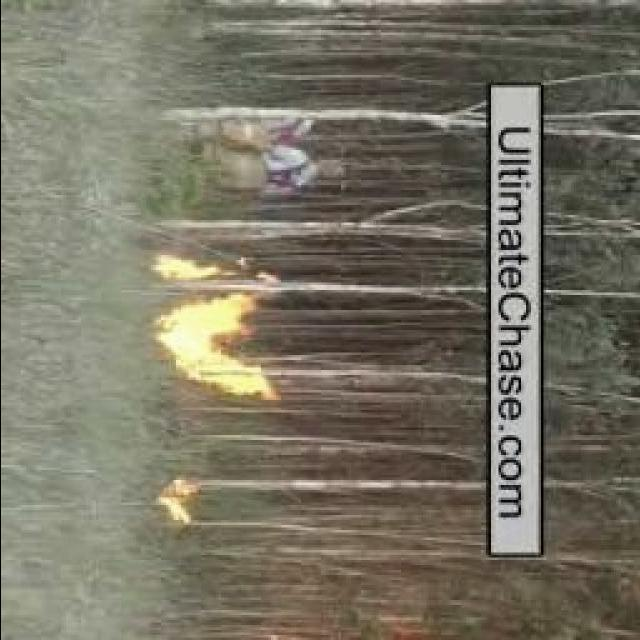Fire: (150, 295, 270, 405), (139, 253, 220, 285), (163, 476, 195, 536)
